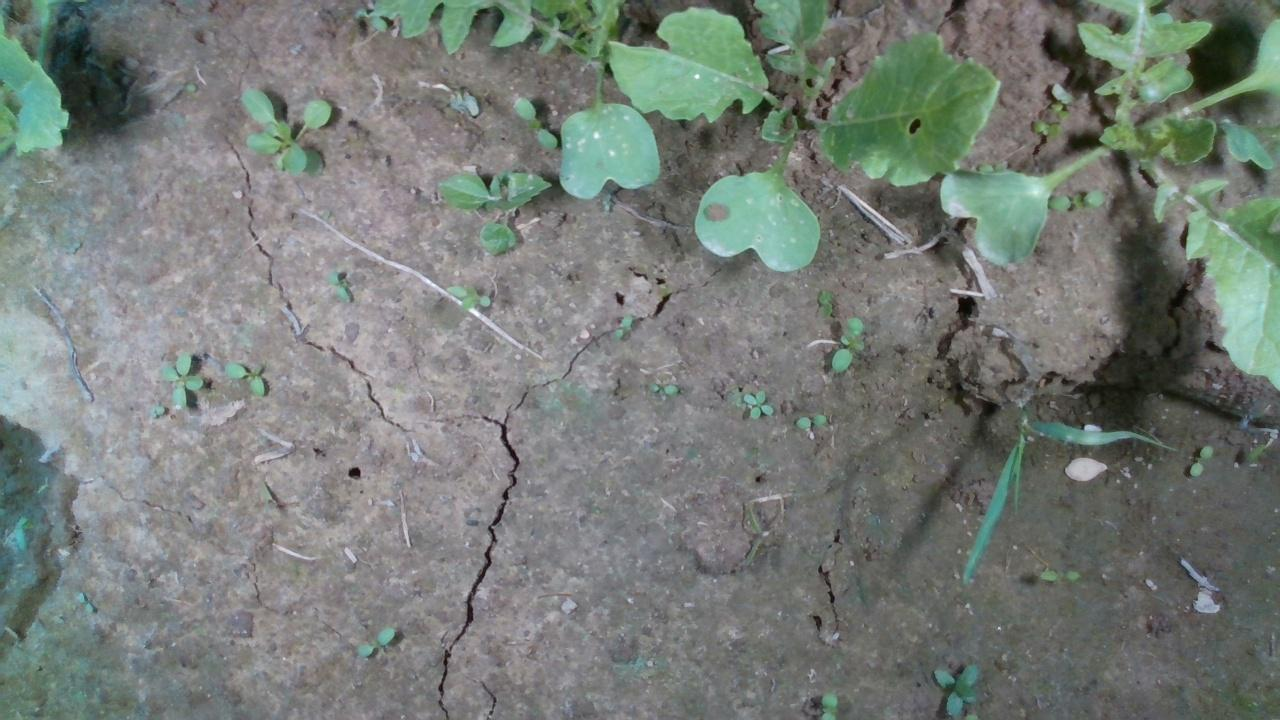weed: (157, 350, 203, 412), (510, 95, 557, 149), (829, 316, 864, 374), (220, 360, 266, 399), (444, 280, 491, 310), (355, 625, 394, 657), (741, 388, 774, 418), (1187, 441, 1214, 477), (328, 269, 351, 304), (1036, 569, 1080, 582), (612, 312, 633, 338), (794, 412, 826, 429), (644, 380, 678, 395), (816, 288, 831, 320), (74, 591, 93, 614)
